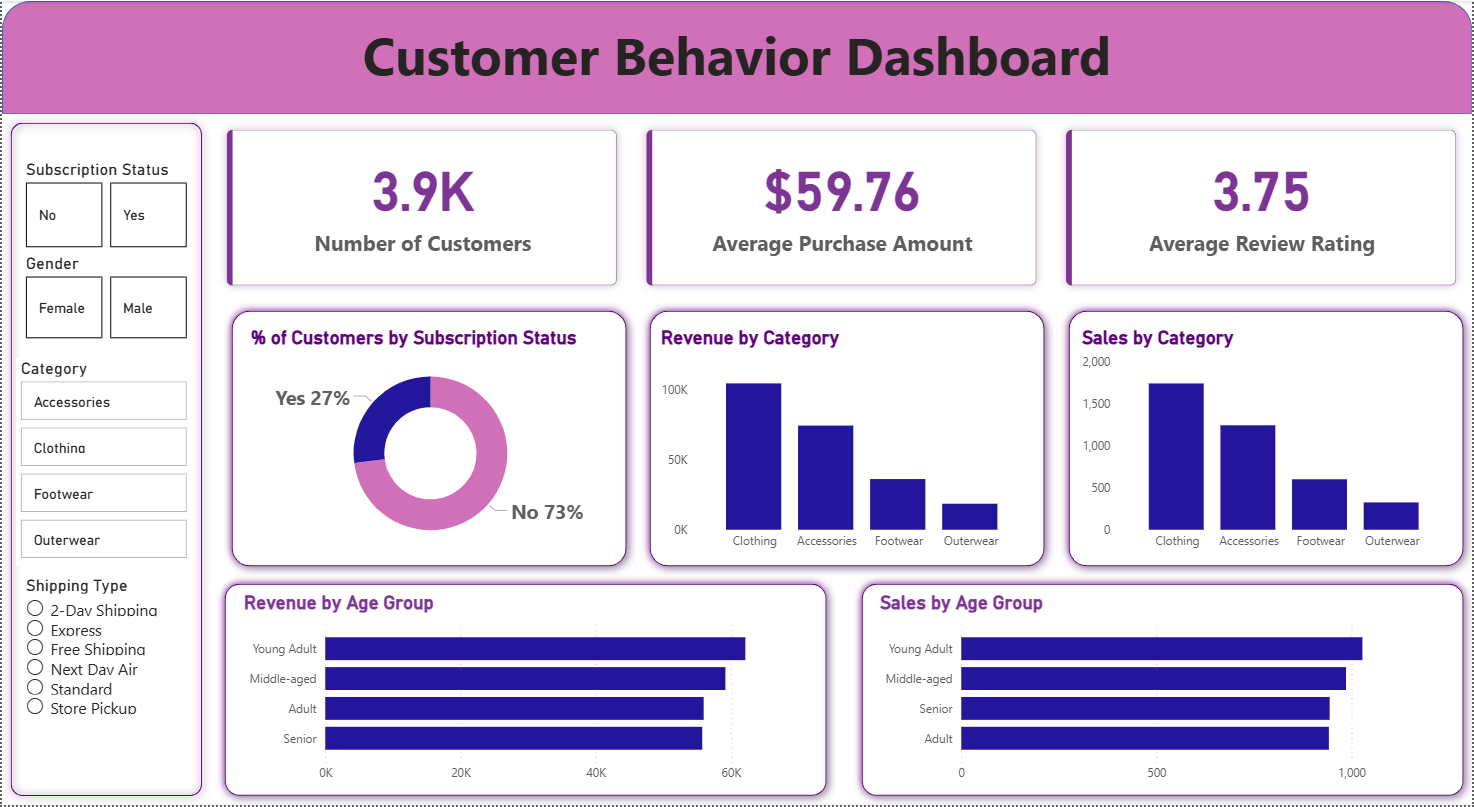

The page's visual inventory and layout, read from the dashboard file:
{"tool":"powerbi","page":{"name":"Page 1","canvas":[1500,820],"ordinal":0},"visuals":[{"type":"cardVisual","fields":{"Data":["public customer.Number of Customers","public customer.Average Purchase Amount","public customer.Average Review Rating"]},"box":[212.9,115.3,1286.5,191.6],"z":2000},{"type":"shape","box":[218.3,585.6,631.7,234.2],"z":2500,"group":"g1"},{"type":"shape","box":[0,0,1499.4,115.3],"z":3000},{"type":"textbox","box":[0,12.4,1499.4,102.9],"z":4000},{"type":"shape","box":[225.4,307,420.5,278.6],"z":5000},{"type":"donutChart","title":"% of Customers by Subscription Status","fields":{"Category":["public customer.subscription_status"],"Y":["CountNonNull(public customer.customer_id)"]},"box":[248.4,331.8,376.2,237.8],"z":6000},{"type":"shape","box":[1078.9,307,420.5,278.6],"z":7000},{"type":"shape","box":[652.1,307,420.5,278.6],"z":8000},{"type":"clusteredColumnChart","title":"Revenue by Category","fields":{"Y":["Sum(public customer.purchase_amount)"],"Category":["public customer.category"]},"box":[667.2,331.8,385.1,237.8],"z":9000},{"type":"clusteredColumnChart","title":"Sales by Category","fields":{"Y":["CountNonNull(public customer.customer_id)"],"Category":["public customer.category"]},"box":[1096.6,331.8,385.1,237.8],"z":10000},{"type":"shape","box":[0,115.3,212.9,704.5],"z":11000},{"type":"advancedSlicerVisual","fields":{"Values":["public customer.subscription_status"]},"box":[19.4,161.1,174.4,95.9],"z":12000},{"type":"advancedSlicerVisual","fields":{"Values":["public customer.gender"]},"box":[19.4,257,174.4,92.8],"z":13000},{"type":"advancedSlicerVisual","fields":{"Values":["public customer.category"]},"box":[14.3,364.1,179.5,212.1],"z":14000},{"type":"listSlicer","fields":{"Values":["public customer.shipping_type"]},"box":[19.4,585.4,168.3,192.8],"z":15000},{"type":"shape","box":[867.7,585.6,631.7,234.2],"z":16000},{"type":"clusteredBarChart","title":"Sales by Age Group","fields":{"Y":["CountNonNull(public customer.customer_id)"],"Category":["public customer.age_group"]},"box":[890.8,601.5,585.6,204.1],"z":17000},{"type":"clusteredBarChart","title":"Revenue by Age Group","fields":{"Y":["Sum(public customer.purchase_amount)"],"Category":["public customer.age_group"]},"box":[241.4,601.6,585.6,204.1],"z":17500,"group":"g1"},{"type":"group","id":"g1","title":"Group 1","box":[218.3,585.6,631.7,234.2],"z":17501}]}

Visuals, with their boxes in screenshot pixels (x1, y1, x2, y2), scaled from the page's 1500x820 canvas onto the 1474x807 screenshot:
cardVisual - public customer.Number of Customers x public customer.Average Purchase Amount: <region>209, 113, 1473, 302</region>
shape: <region>215, 576, 835, 806</region>
shape: <region>0, 0, 1473, 113</region>
textbox: <region>0, 12, 1473, 113</region>
shape: <region>221, 302, 635, 576</region>
"% of Customers by Subscription Status" donutChart: <region>244, 327, 614, 561</region>
shape: <region>1060, 302, 1473, 576</region>
shape: <region>641, 302, 1054, 576</region>
"Revenue by Category" clusteredColumnChart: <region>656, 327, 1034, 561</region>
"Sales by Category" clusteredColumnChart: <region>1078, 327, 1456, 561</region>
shape: <region>0, 113, 209, 806</region>
advancedSlicerVisual - public customer.subscription_status: <region>19, 159, 190, 253</region>
advancedSlicerVisual - public customer.gender: <region>19, 253, 190, 344</region>
advancedSlicerVisual - public customer.category: <region>14, 358, 190, 567</region>
listSlicer - public customer.shipping_type: <region>19, 576, 184, 766</region>
shape: <region>853, 576, 1473, 806</region>
"Sales by Age Group" clusteredBarChart: <region>875, 592, 1451, 793</region>
"Revenue by Age Group" clusteredBarChart: <region>237, 592, 813, 793</region>
"Group 1" group: <region>215, 576, 835, 806</region>
